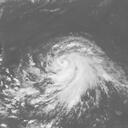cyclone: (38, 36, 105, 104)
